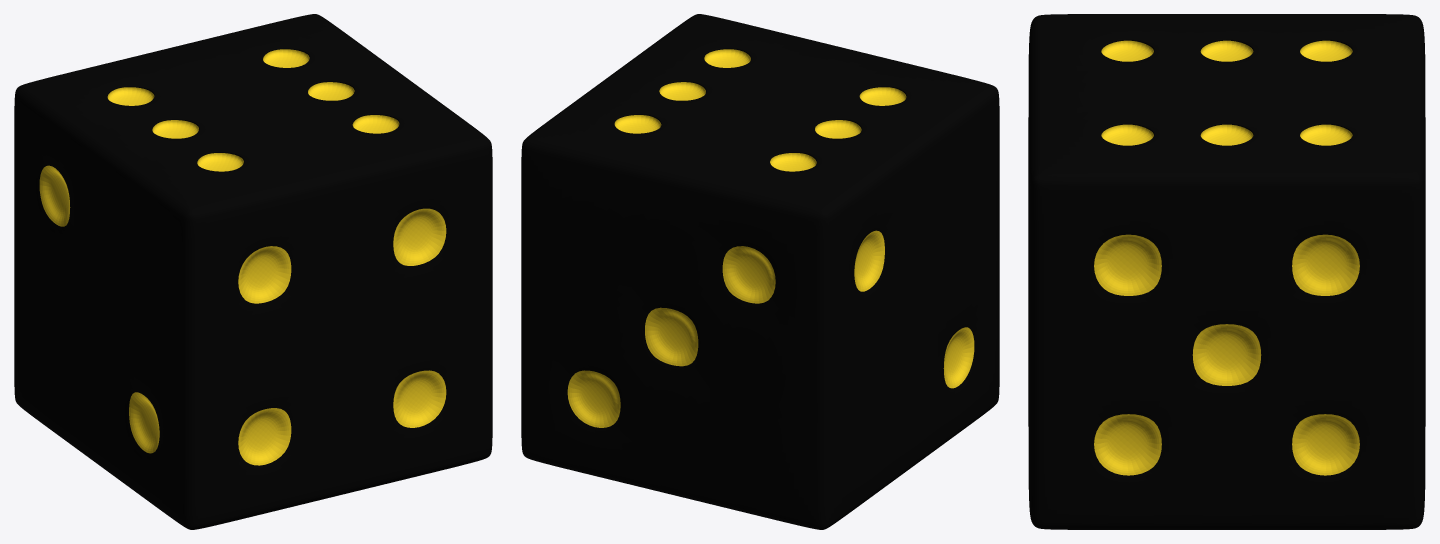
The model's file is BlackDice.fbx.
3 views of the same model, side by side, from view 1: azimuth 30°, elevation 25°; view 2: azimuth 150°, elevation 25°; view 3: azimuth 270°, elevation 25° (orthographic). The views are drawn at different scales.
Parts seen in each view (by area): view 1: Dice; view 2: Dice; view 3: Dice.
Boxes of the visible parts, x1,y1,x2,y2 form: Dice: (14,14,492,529); Dice: (521,14,999,529); Dice: (1028,14,1425,529).
Bounding box in the file's own units: 200 × 200 × 200.
